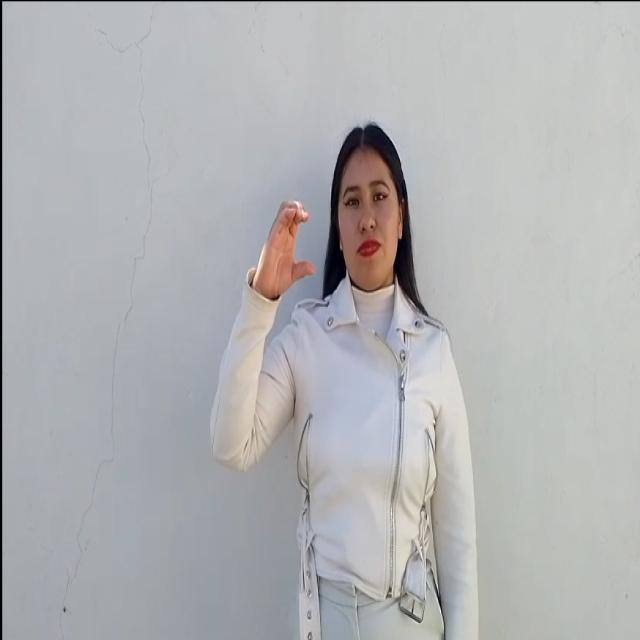C: (242, 194, 324, 312)
